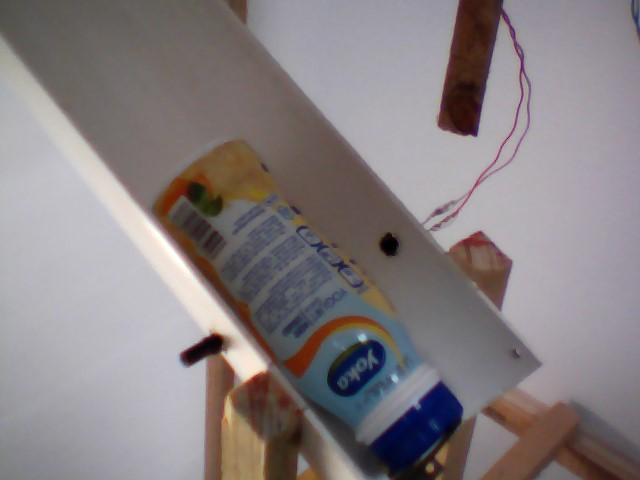plastico: (143, 132, 472, 475)
